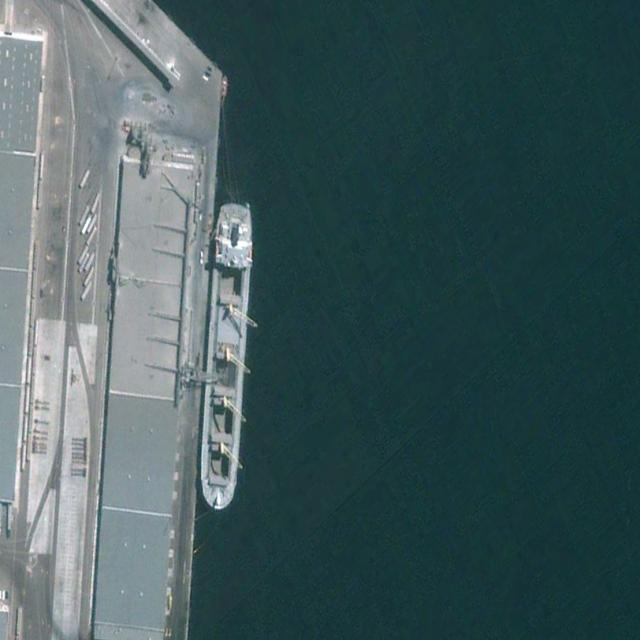Cargo: (196, 200, 255, 513)
